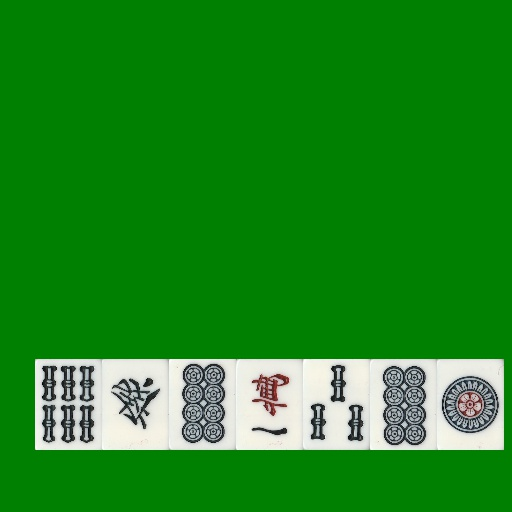1m: (236, 359, 303, 450)
1p: (437, 359, 504, 450)
3s: (303, 359, 370, 450)
6s: (35, 359, 102, 450)
8p: (169, 359, 236, 450), (370, 359, 437, 450)
hatsu: (102, 359, 169, 450)
